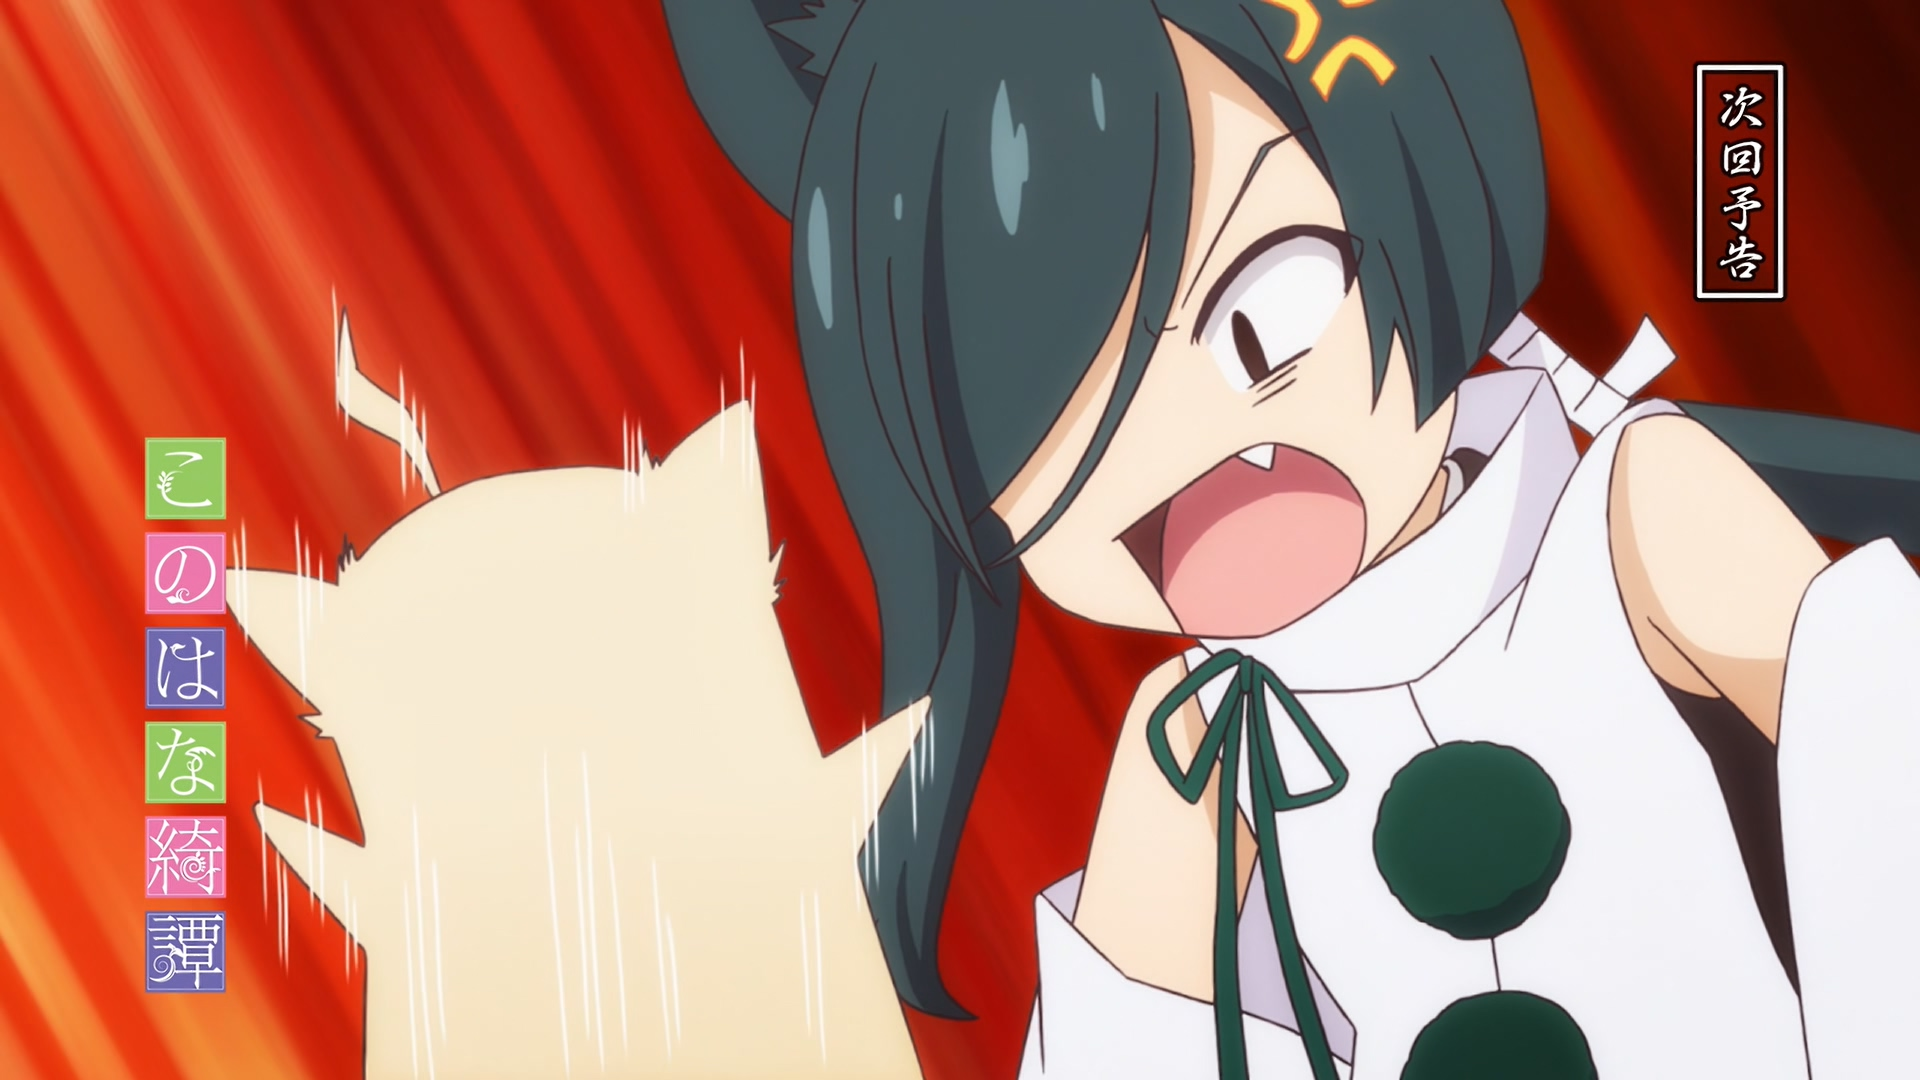其他: (659, 1, 1920, 1080)
柚: (224, 289, 944, 1080)
